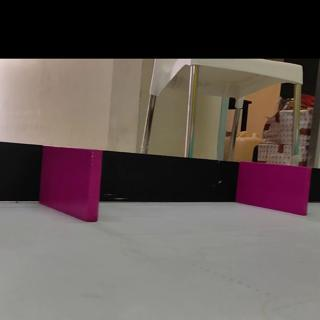xparking: (44, 151, 101, 222), (239, 167, 311, 211)
